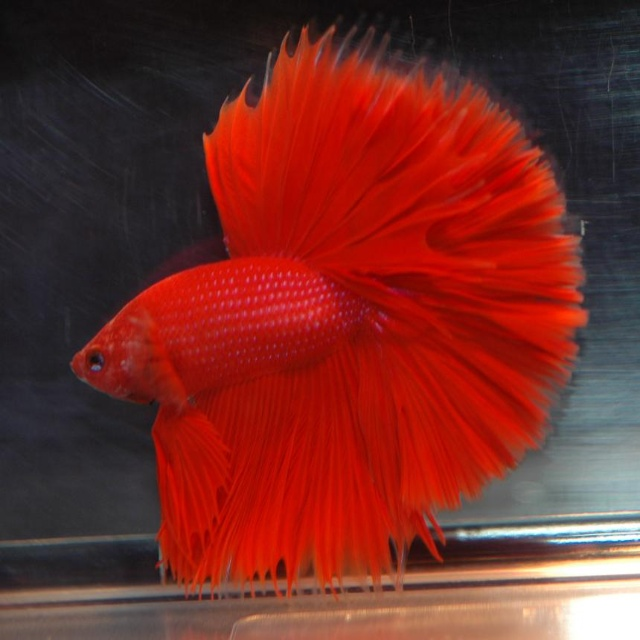Fish: (74, 25, 586, 603)
